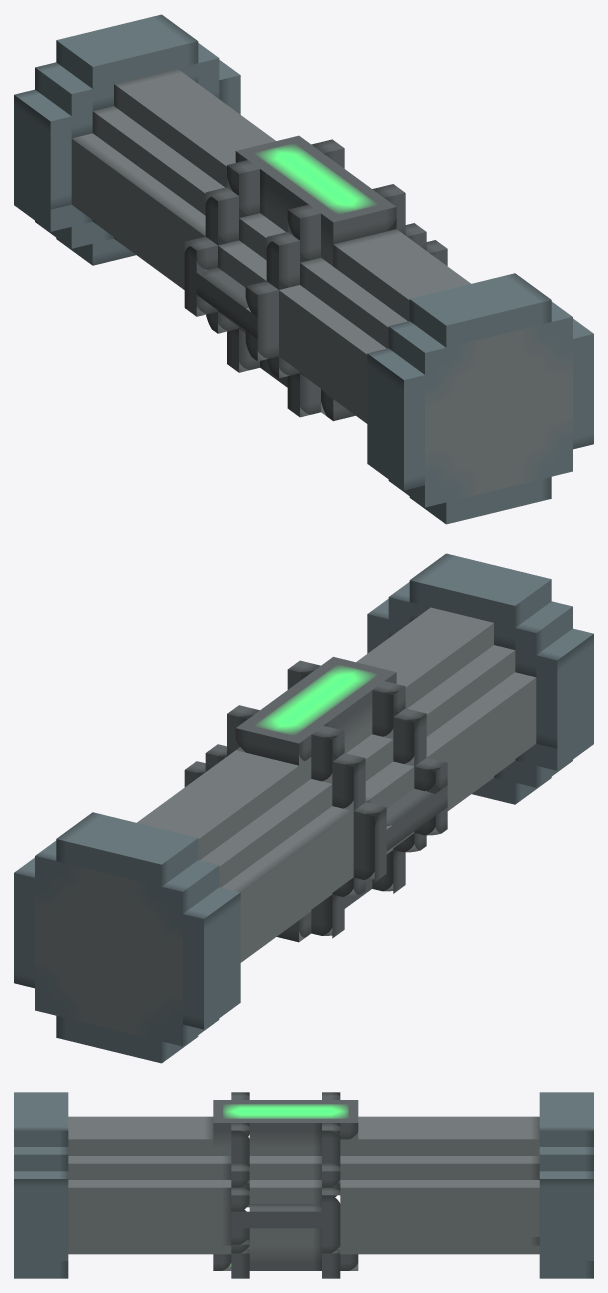
The model's file is RURA_PROSTO_WKAZNIK.dae.
3 renders of one model, top to bottom at view 1: azimuth 30°, elevation 25°; view 2: azimuth 150°, elevation 25°; view 3: azimuth 270°, elevation 25°, orthographic. The views are drawn at different scales.
Parts seen in each view (by area): view 1: Content; view 2: Content; view 3: Content.
Part boxes in pixels (x1,y1,x2,y2): Content: [14, 14, 593, 524]; Content: [14, 553, 593, 1063]; Content: [14, 1092, 593, 1278].
Bounding box in the file's own units: 9 × 9 × 32.
Materials: 1 (1 with a texture image).
